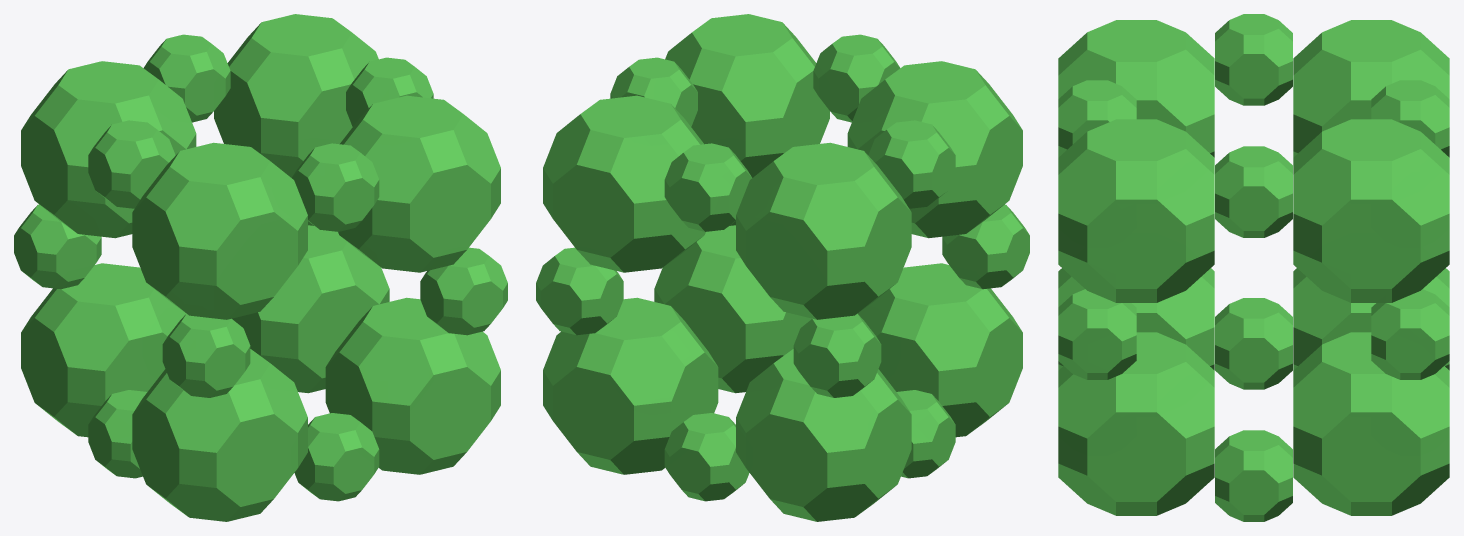
The model's file is fractaltruncatedcuboctahedron2-1.glb.
The picture shows the model from 3 angles, left to right: view 1: azimuth 30°, elevation 25°; view 2: azimuth 150°, elevation 25°; view 3: azimuth 270°, elevation 25°; orthographic projection. The views are drawn at different scales.
Size of the model in its own units: 7.2 by 7.2 by 7.2.
